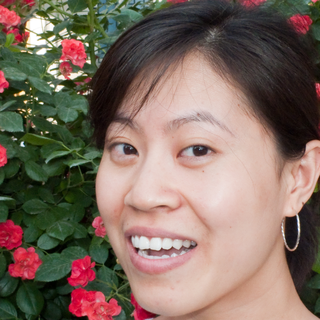eye: (175, 139, 222, 164), (106, 138, 144, 163)
